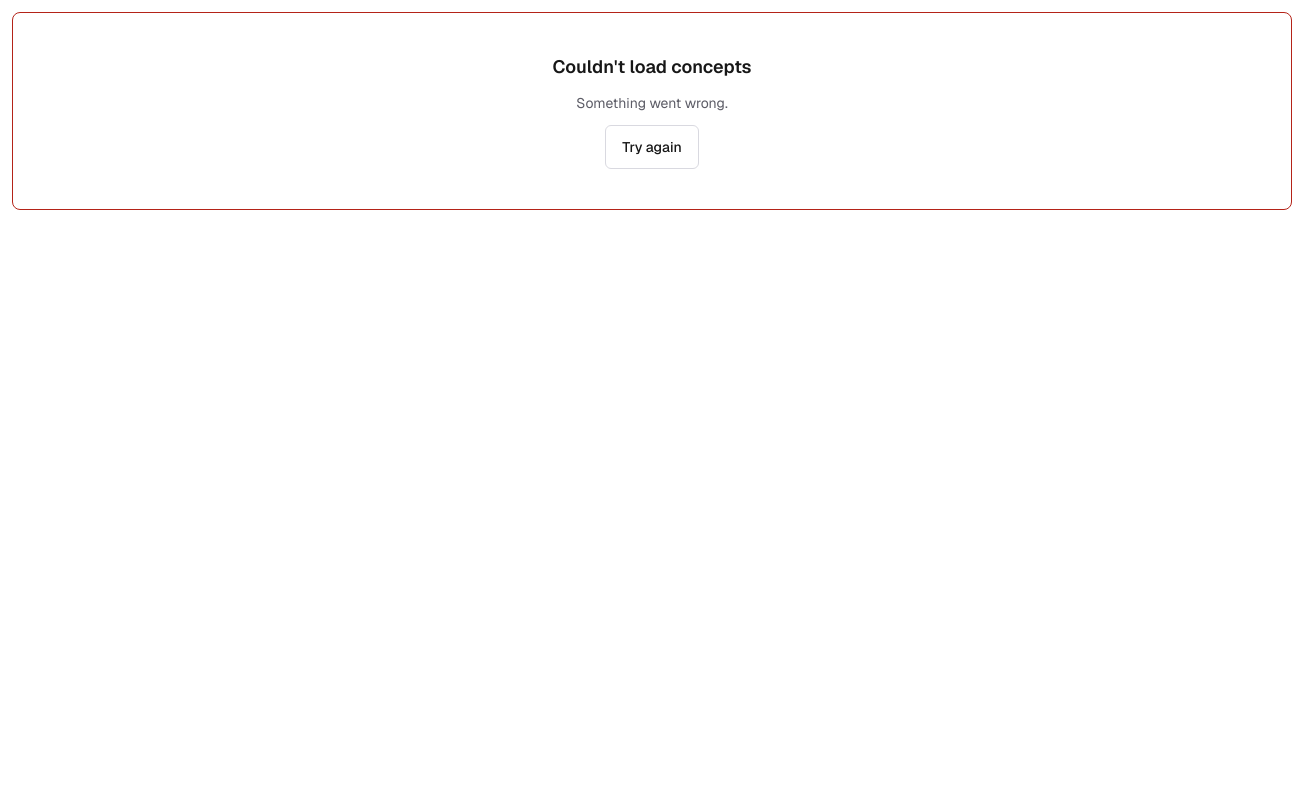
Test: ConceptPicker › shows the error and retries
Expected: the message shows "Couldn't load concepts", [552,55,752,78]
Expected: the message shows "Something went wrong.", [576,94,728,112]
Click the button "Try again" at (652, 147), box [605,125,699,169]
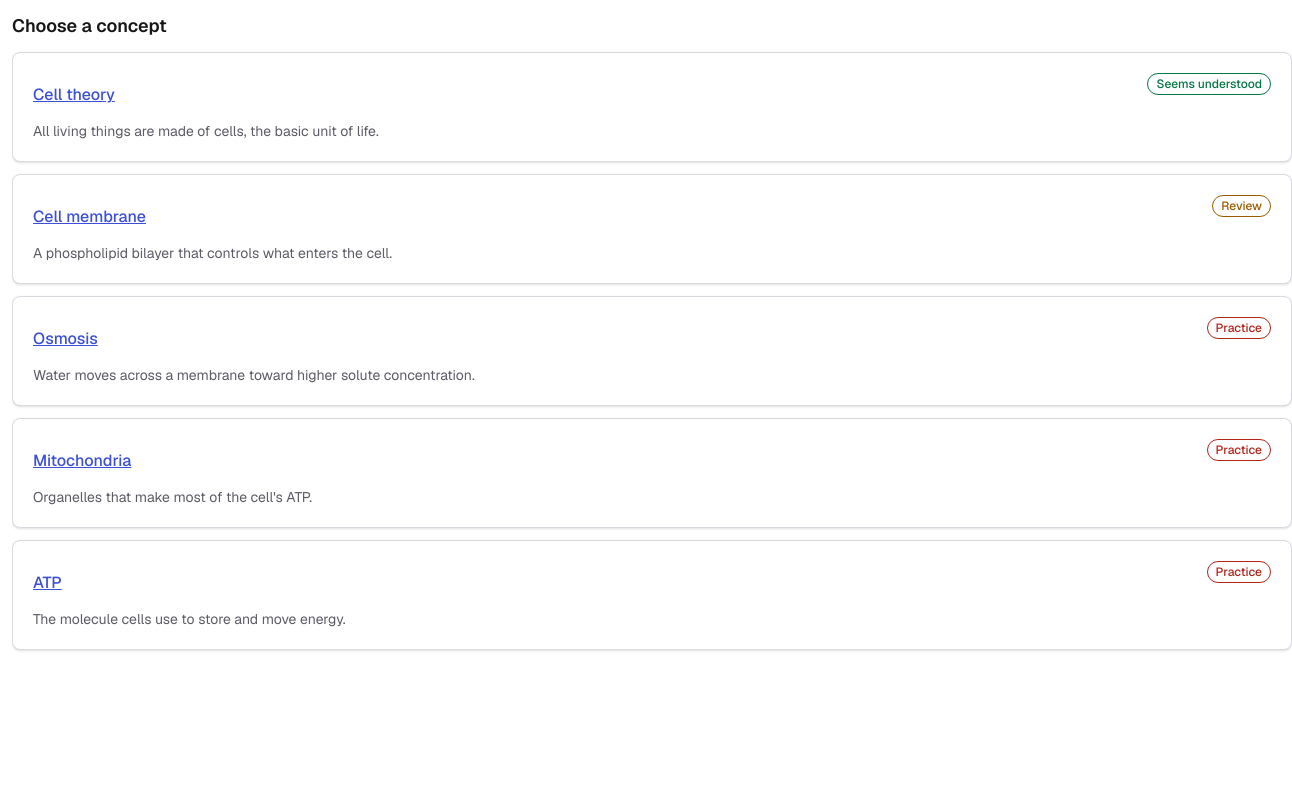
Expected: the link "Osmosis" is shown, [33,328,98,349]
